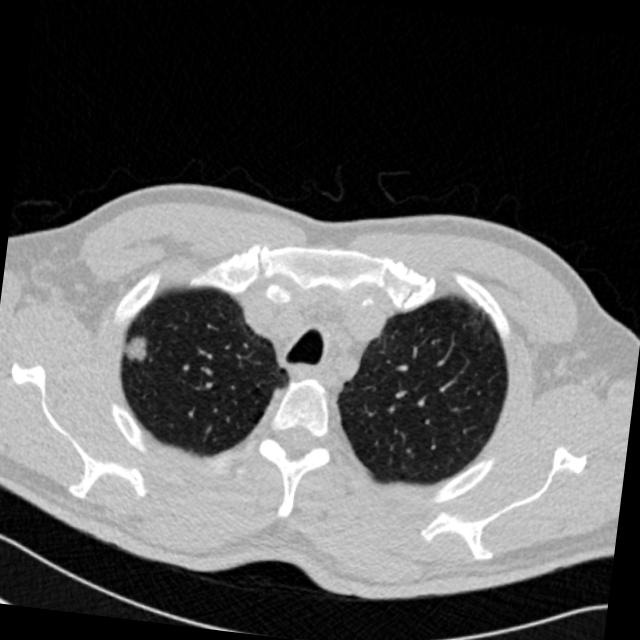nodule: (108, 321, 162, 374)
